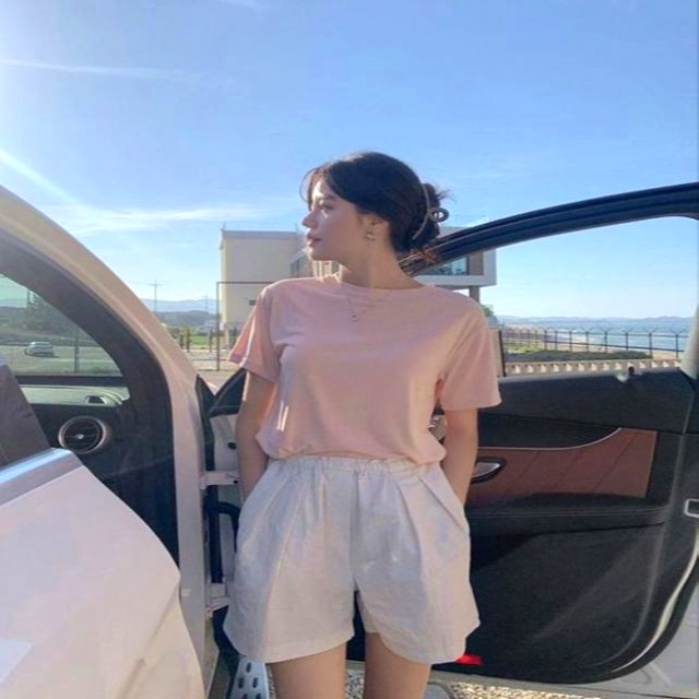Shorts: (220, 451, 484, 699)
